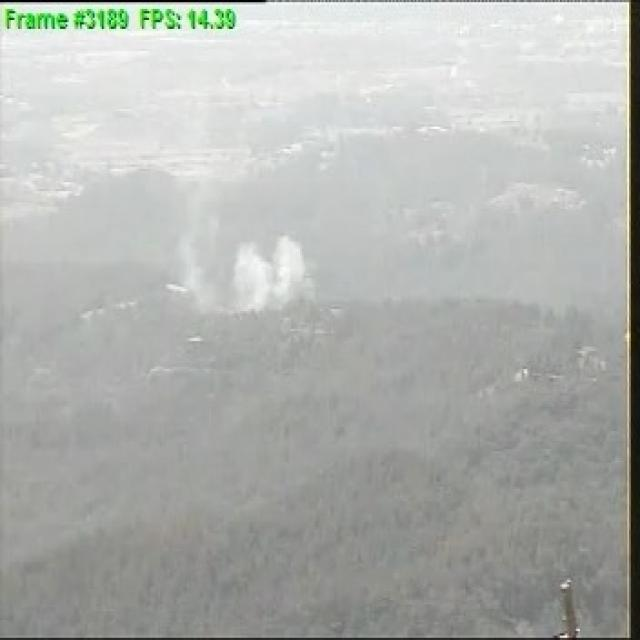smoke: (179, 234, 319, 311)
